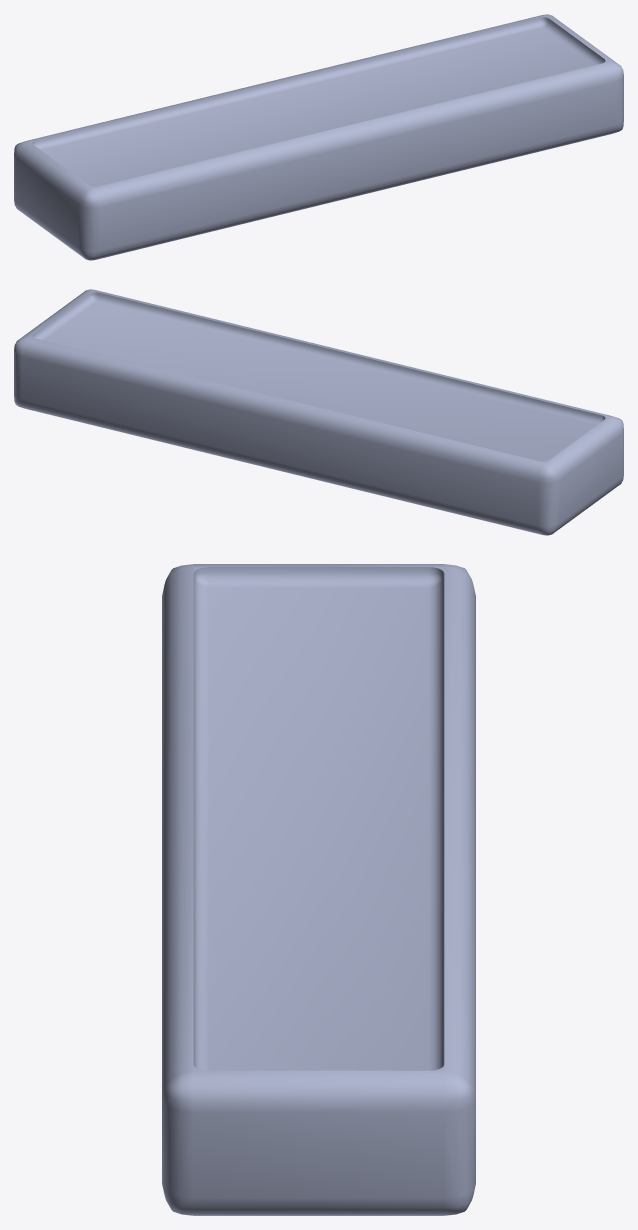
Rendered from Button.fbx.
3 renders of one model, top to bottom at view 1: azimuth 30°, elevation 25°; view 2: azimuth 150°, elevation 25°; view 3: azimuth 270°, elevation 25°, orthographic. The views are drawn at different scales.
Visible parts, largest first — view 1: Plane_001; view 2: Plane_001; view 3: Plane_001.
Boxes of the visible parts, x1,y1,x2,y2 form: Plane_001: [14, 14, 623, 260]; Plane_001: [14, 289, 623, 535]; Plane_001: [162, 564, 475, 1215].
Size of the model in its own units: 8 by 1 by 2.
